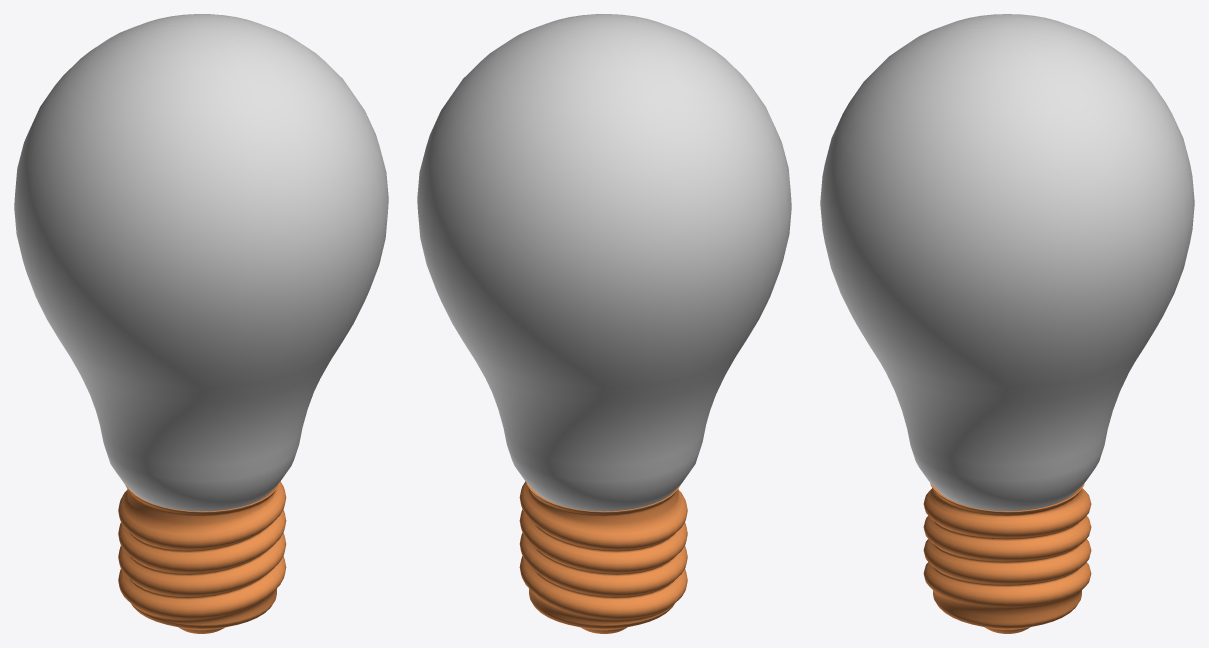
File: light_bulb.glb
The picture shows the model from 3 angles, left to right: view 1: azimuth 30°, elevation 25°; view 2: azimuth 150°, elevation 25°; view 3: azimuth 270°, elevation 25°; orthographic projection.
Parts seen in each view (by area): view 1: Sphere001, Cylinder001; view 2: Sphere001, Cylinder001; view 3: Sphere001, Cylinder001.
Part boxes in pixels (x1=…): Sphere001: x1=14, y1=14, x2=388, y2=511; Cylinder001: x1=118, y1=481, x2=286, y2=633; Sphere001: x1=417, y1=14, x2=791, y2=511; Cylinder001: x1=519, y1=481, x2=687, y2=633; Sphere001: x1=820, y1=14, x2=1194, y2=511; Cylinder001: x1=923, y1=483, x2=1091, y2=633.
Bounding box in the file's own units: 0.9665 × 1.7 × 0.9665.
